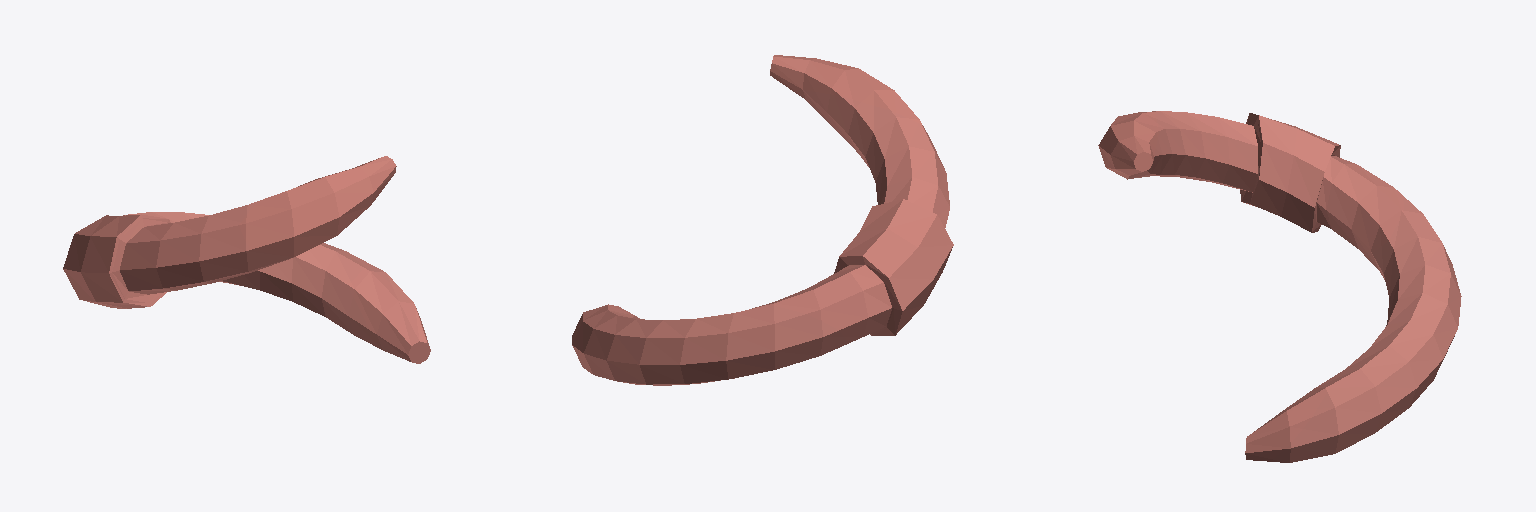
3 renders of one model, left to right at view 1: azimuth 30°, elevation 25°; view 2: azimuth 150°, elevation 25°; view 3: azimuth 270°, elevation 25°, orthographic.
Visible parts, largest first — view 1: Worm_ish; view 2: Worm_ish; view 3: Worm_ish.
Boxes of the visible parts, x1,y1,x2,y2 form: Worm_ish: [63, 156, 430, 363]; Worm_ish: [572, 55, 953, 385]; Worm_ish: [1098, 111, 1461, 462].
Bounding box in the file's own units: 5.66 × 4.28 × 5.22.
Materials: 1 (1 with a texture image).